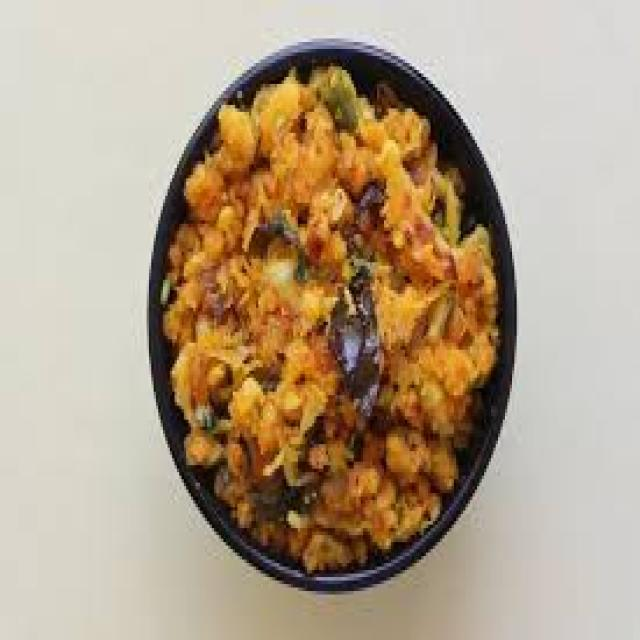UPMA: (156, 59, 500, 567)
